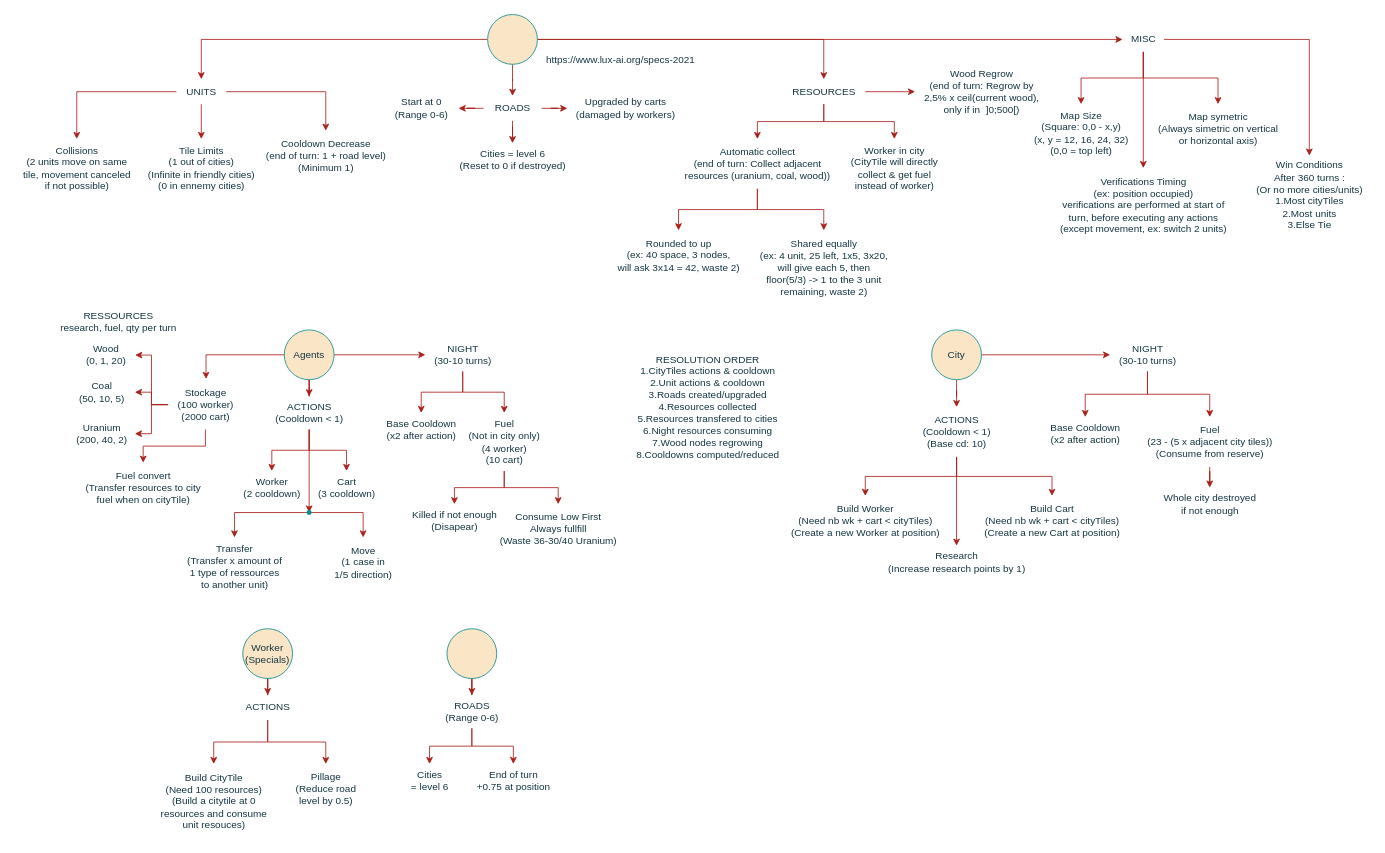
This 1385x853 diagram has some shape labels left out. Each missing label, with the centre of its shape:
Cart (Specials): point 471,653
RULES: point 512,39
